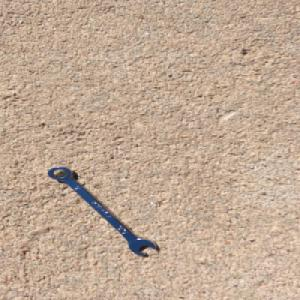Wrench: (46, 165, 160, 257)
